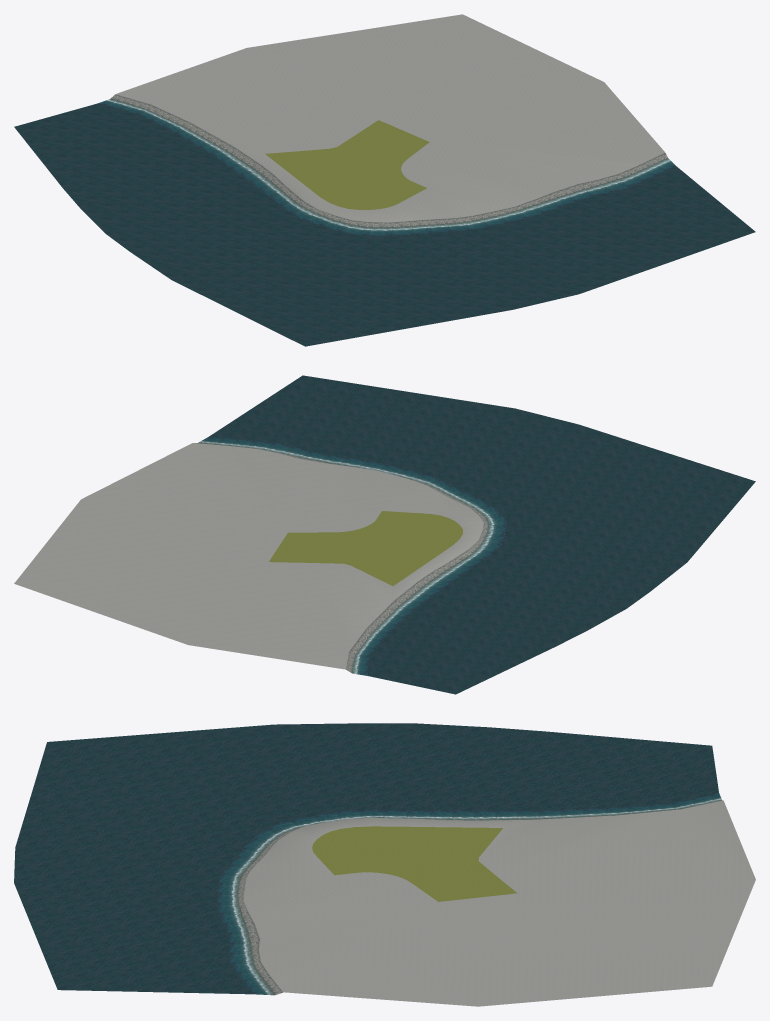
Rendered from China_track_road_field.dae.
The picture shows the model from 3 angles, top to bottom: view 1: azimuth 30°, elevation 25°; view 2: azimuth 150°, elevation 25°; view 3: azimuth 270°, elevation 25°; orthographic projection. The views are drawn at different scales.
Visible parts, largest first — view 1: field; view 2: field; view 3: field.
Boxes of the visible parts, bbox=[...] form: field: bbox=[14, 14, 755, 346]; field: bbox=[14, 375, 755, 694]; field: bbox=[14, 723, 755, 1006].
Size of the model in its own units: 123 by 135 by 0.6805.
4 materials, 4 textured.
